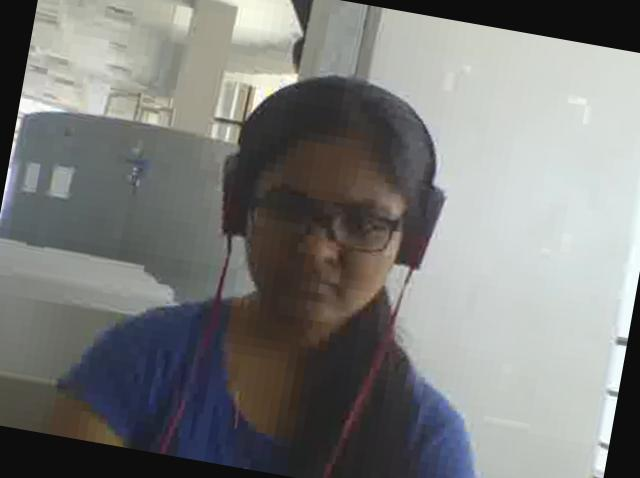bingung: (237, 128, 410, 335)
